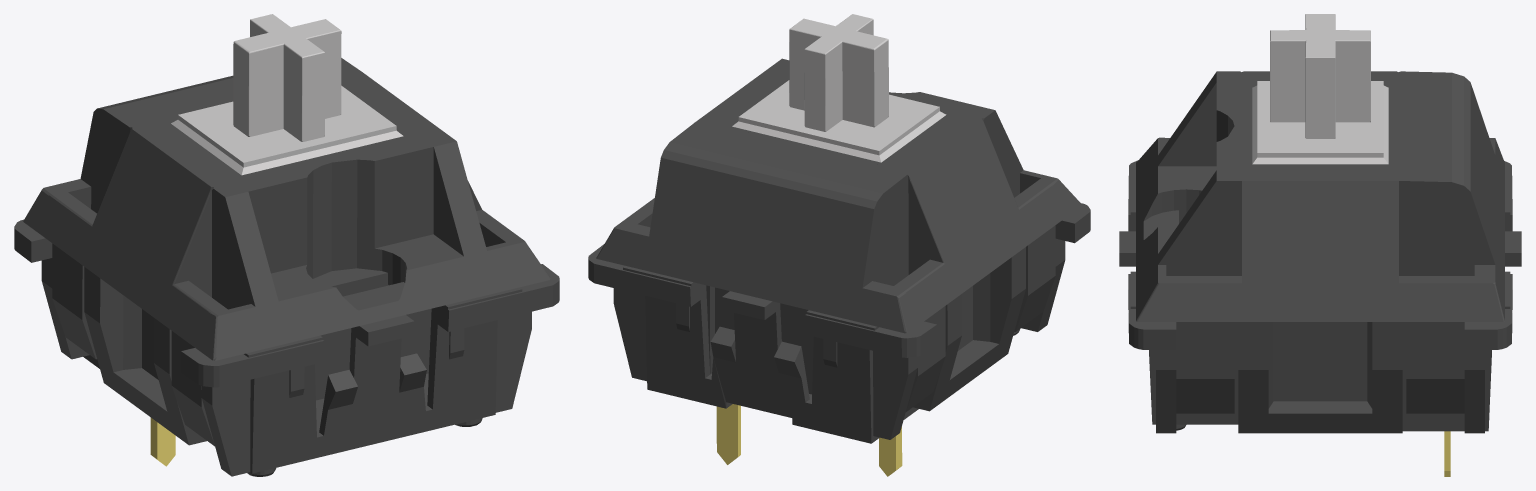
File: MX_SWITCH.glb
The picture shows the model from 3 angles, left to right: view 1: azimuth 30°, elevation 25°; view 2: azimuth 150°, elevation 25°; view 3: azimuth 270°, elevation 25°; orthographic projection. The views are drawn at different scales.
Parts seen in each view (by area): view 1: switch: 7-7; view 2: switch: 7-7; view 3: switch: 7-7.
Part boxes in pixels (x1,y1,x2,y2): switch: 7-7: (14, 14, 559, 476); switch: 7-7: (588, 14, 1090, 476); switch: 7-7: (1119, 14, 1521, 476).
Size of the model in its own units: 16 by 18.28 by 16.
